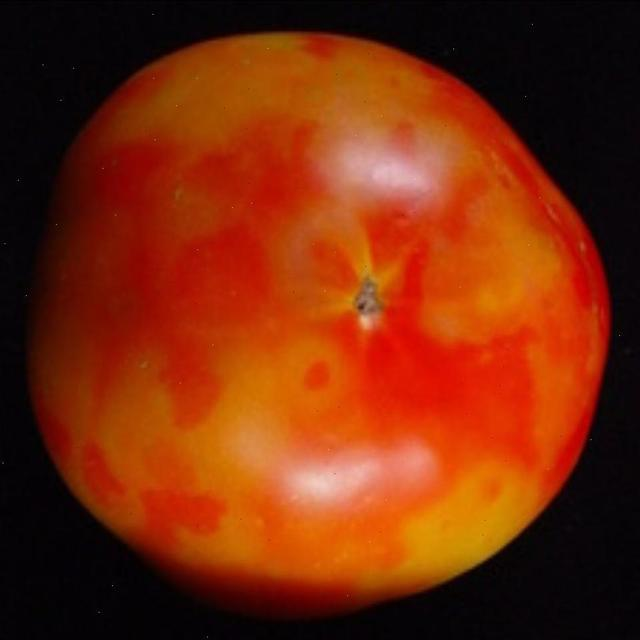Spotted wilt Virus Fruit: (208, 94, 581, 219)
